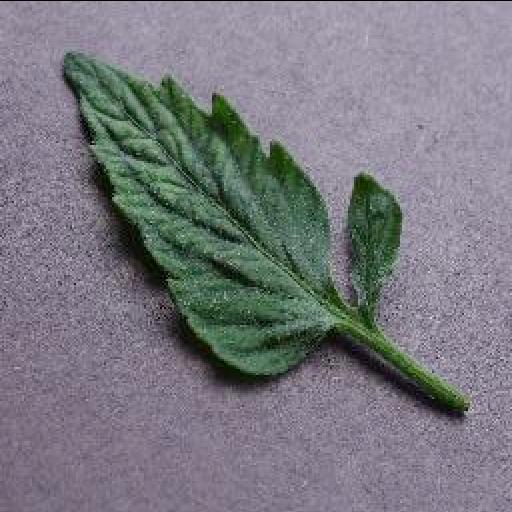disease_tomato: (60, 48, 338, 382)
